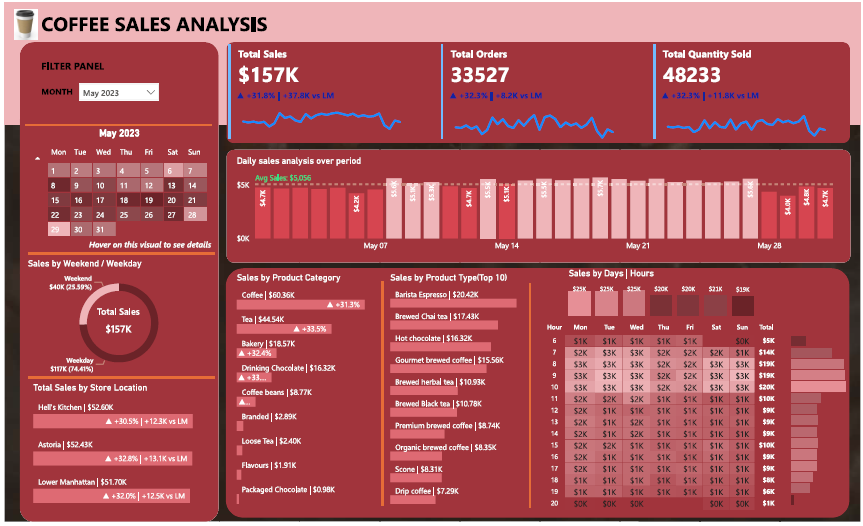

The dashboard page shown, as its layout file describes it:
{"tool":"powerbi","page":{"name":"Page 1","canvas":[1400,850],"ordinal":0},"visuals":[{"type":"shape","box":[0,0,1400,200],"z":0},{"type":"shape","box":[25,65,325,785],"z":1000},{"type":"shape","box":[363.3,65,1020,165],"z":2000},{"type":"textbox","box":[55,6.7,395,58.3],"z":3000},{"type":"cardVisual","fields":{"Data":["Transactions.Total Orders"]},"box":[709.6,64.2,300,164.3],"z":4000,"group":"g2"},{"type":"cardVisual","fields":{"Data":["Transactions.Total Quantity Sold"]},"box":[1056.6,64.2,300,164.3],"z":4000,"group":"g3"},{"type":"cardVisual","fields":{"Data":["Transactions.Total Sales"]},"box":[362.5,64.3,300,164.3],"z":4000,"group":"g1"},{"type":"slicer","fields":{"Values":["Date Table.Month year"]},"box":[116.9,127.7,140,36.9],"z":4000},{"type":"group","id":"g1","title":"Group 1","box":[362.5,64.3,300,164.3],"z":5000},{"type":"group","id":"g2","title":"Group 1","box":[709.6,64.2,300,164.2],"z":6000},{"type":"lineChart","fields":{"Category":["Date Table.Date Hierarchy.Date"],"Y":["Transactions.Total Orders"]},"box":[722.1,142.8,287.5,85.7],"z":6000,"group":"g2"},{"type":"lineChart","fields":{"Category":["Date Table.Date Hierarchy.Date"],"Y":["Transactions.Total Quantity Sold"]},"box":[1069.1,142.8,287.5,85.7],"z":6000,"group":"g3"},{"type":"lineChart","fields":{"Category":["Date Table.Date Hierarchy.Date"],"Y":["Transactions.Total Sales"]},"box":[375,142.9,287.5,85.7],"z":6000,"group":"g1"},{"type":"group","id":"g3","title":"Group 1","box":[1056.6,64.2,300,164.2],"z":7000},{"type":"pivotTable","fields":{"Rows":["Date Table.Week NUmber"],"Columns":["Date Table.Day Name"],"Values":["Min(Date Table.Day Number)"]},"box":[39.6,228.3,305,190.6],"z":8000},{"type":"cardVisual","fields":{"Data":["Min(Date Table.Month year)"]},"box":[134,179.2,107.5,49.1],"z":9000},{"type":"cardVisual","fields":{"Data":["Transactions.Footnote"]},"box":[120.8,362.3,294.3,56.6],"z":10000},{"type":"shape","box":[39.1,401.6,304.7,17.2],"z":11000},{"type":"shape","box":[361.5,435.4,1020,407.7],"z":12000},{"type":"shape","box":[34.4,192.2,304.7,17.2],"z":13000},{"type":"donutChart","title":"Sales by Weekend / Weekday","fields":{"Category":["Date Table.Weekend / Weekday"],"Y":["Transactions.Total Sales"]},"box":[32.8,418.8,307.8,195.3],"z":14000},{"type":"cardVisual","fields":{"Data":["Transactions.Total Sales"]},"box":[129.7,478.1,112.5,76.6],"z":15000},{"type":"shape","box":[39.1,604.7,304.7,17.2],"z":16000},{"type":"clusteredBarChart","title":"Total Sales by Store Location","fields":{"Y":["Transactions.Placeholder","Transactions.Total Sales"],"Category":["Transactions.store_location"]},"box":[42.4,622,298.3,205.1],"z":17000},{"type":"shape","box":[362.7,241.2,1021.6,185],"z":18000},{"type":"columnChart","title":"Daily sales analysis over period","fields":{"Y":["Transactions.Total Sales"],"Category":["Transactions.transaction_date"]},"box":[374.5,251,994.1,164.7],"z":19000},{"type":"clusteredBarChart","title":"Sales by Product Category","fields":{"Y":["Transactions.Placeholder","Transactions.Total Sales"],"Category":["Transactions.product_category"]},"box":[375.4,441.5,250.8,384.6],"z":20000},{"type":"shape","box":[610.8,456.9,15.4,366.2],"z":21000},{"type":"clusteredBarChart","title":"Sales by Product Type(Top 10)","fields":{"Y":["Transactions.Placeholder","Transactions.Total Sales"],"Category":["Transactions.product_type"]},"box":[626.2,441.5,250.8,384.6],"z":22000},{"type":"shape","box":[852.3,460,15.4,366.2],"z":23000},{"type":"pivotTable","fields":{"Rows":["Transactions.Hour"],"Columns":["Date Table.Day Name"],"Values":["Transactions.Total Sales"]},"box":[876.9,518.5,406.2,318.5],"z":23001},{"type":"barChart","fields":{"Category":["Transactions.Hour"],"Y":["Transactions.Total Sales"]},"box":[1283.1,533.8,98.5,292.3],"z":23002},{"type":"columnChart","title":"Sales by Days | Hours","fields":{"Y":["Transactions.Total Sales"],"Category":["Date Table.Day Name"]},"box":[918.5,435.4,312.3,83.1],"z":23003},{"type":"textbox","box":[55.4,87.7,149.2,40],"z":23005},{"type":"textbox","box":[55.4,132.3,86.2,29.2],"z":23006},{"type":"image","box":[4.6,6.2,58.5,58.5],"z":23007}]}

Visuals, with their boxes in screenshot pixels (x1, y1, x2, y2), scaled from the page's 1400x850 canvas onto the 863x526 screenshot:
shape: left=0, top=0, right=862, bottom=124
shape: left=15, top=40, right=216, bottom=525
shape: left=224, top=40, right=853, bottom=142
textbox: left=34, top=4, right=277, bottom=40
cardVisual - Transactions.Total Orders: left=437, top=40, right=622, bottom=141
cardVisual - Transactions.Total Quantity Sold: left=651, top=40, right=836, bottom=141
cardVisual - Transactions.Total Sales: left=223, top=40, right=408, bottom=141
slicer - Date Table.Month year: left=72, top=79, right=158, bottom=102
"Group 1" group: left=223, top=40, right=408, bottom=141
"Group 1" group: left=437, top=40, right=622, bottom=141
lineChart - Date Table.Date Hierarchy.Date x Transactions.Total Orders: left=445, top=88, right=622, bottom=141
lineChart - Date Table.Date Hierarchy.Date x Transactions.Total Quantity Sold: left=659, top=88, right=836, bottom=141
lineChart - Date Table.Date Hierarchy.Date x Transactions.Total Sales: left=231, top=88, right=408, bottom=141
"Group 1" group: left=651, top=40, right=836, bottom=141
pivotTable - Date Table.Week NUmber x Date Table.Day Name: left=24, top=141, right=212, bottom=259
cardVisual - Min(Date Table.Month year): left=83, top=111, right=149, bottom=141
cardVisual - Transactions.Footnote: left=74, top=224, right=256, bottom=259
shape: left=24, top=249, right=212, bottom=259
shape: left=223, top=269, right=852, bottom=522
shape: left=21, top=119, right=209, bottom=130
"Sales by Weekend / Weekday" donutChart: left=20, top=259, right=210, bottom=380
cardVisual - Transactions.Total Sales: left=80, top=296, right=149, bottom=343
shape: left=24, top=374, right=212, bottom=385
"Total Sales by Store Location" clusteredBarChart: left=26, top=385, right=210, bottom=512
shape: left=224, top=149, right=853, bottom=264
"Daily sales analysis over period" columnChart: left=231, top=155, right=844, bottom=257
"Sales by Product Category" clusteredBarChart: left=231, top=273, right=386, bottom=511
shape: left=377, top=283, right=386, bottom=509
"Sales by Product Type(Top 10)" clusteredBarChart: left=386, top=273, right=541, bottom=511
shape: left=525, top=285, right=535, bottom=511
pivotTable - Transactions.Hour x Date Table.Day Name: left=541, top=321, right=791, bottom=518
barChart - Transactions.Hour x Transactions.Total Sales: left=791, top=330, right=852, bottom=511
"Sales by Days | Hours" columnChart: left=566, top=269, right=759, bottom=321
textbox: left=34, top=54, right=126, bottom=79
textbox: left=34, top=82, right=87, bottom=100
image: left=3, top=4, right=39, bottom=40
